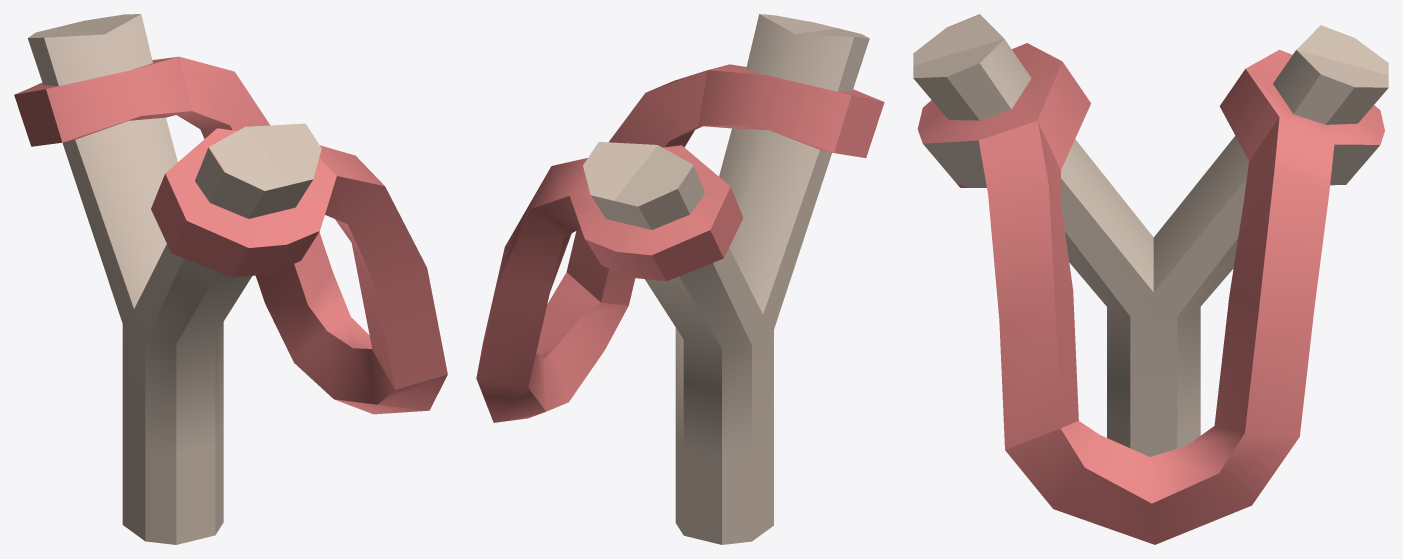
File: Sling.fbx
3 views of the same model, side by side, from view 1: azimuth 30°, elevation 25°; view 2: azimuth 150°, elevation 25°; view 3: azimuth 270°, elevation 25° (orthographic). The views are drawn at different scales.
Visible parts, largest first — view 1: pCube1; view 2: pCube1; view 3: pCube1.
Part boxes in pixels (x1,y1,x2,y2): pCube1: (14, 14, 447, 544); pCube1: (476, 14, 884, 544); pCube1: (913, 14, 1388, 544).
Bounding box in the file's own units: 3.78 × 5.49 × 5.07.
